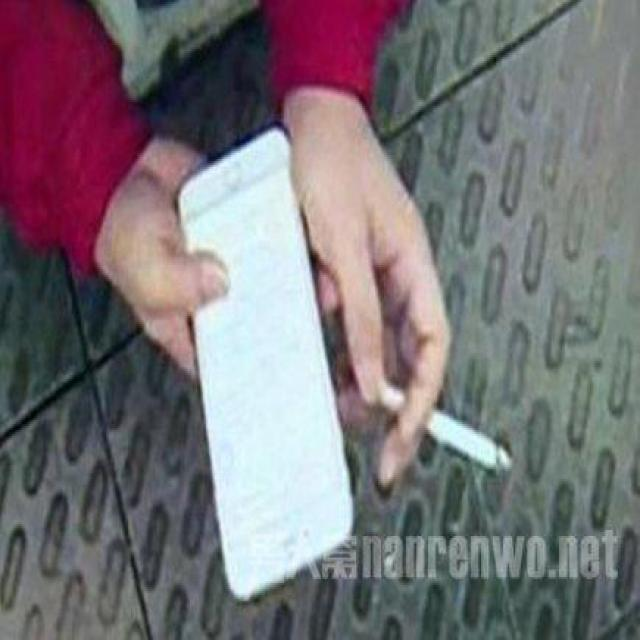Сигарета: (376, 379, 511, 477)
